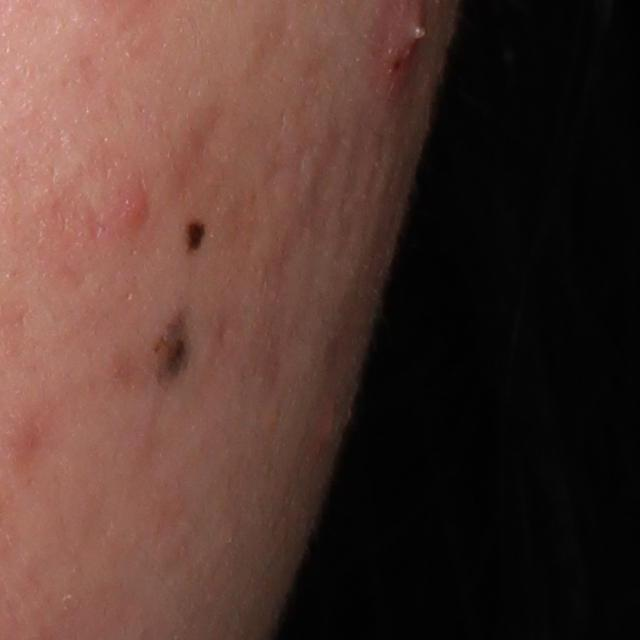papule: (301, 400, 333, 470), (120, 183, 149, 234)
